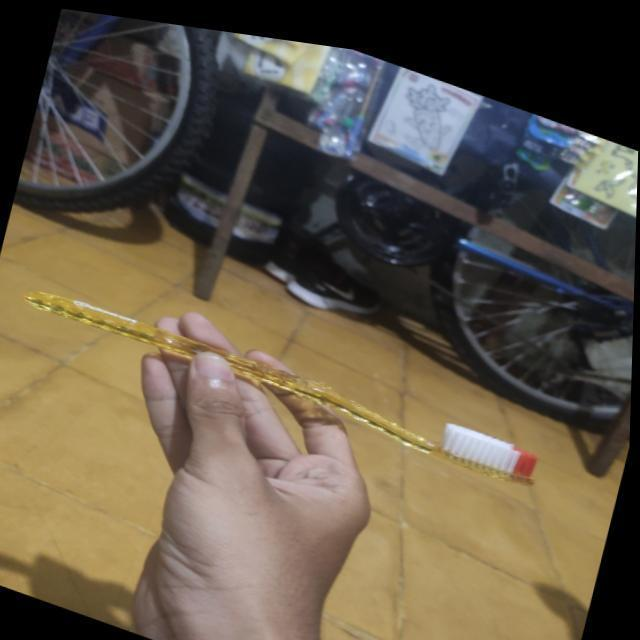toothbrush: (7, 236, 585, 512)
